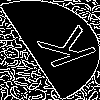K: (25, 25, 99, 75)
